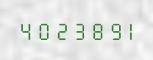eight: (85, 20, 101, 40)
four: (17, 20, 33, 40)
nine: (102, 20, 118, 40)
one: (119, 20, 135, 40)
three: (68, 20, 84, 40)
two: (51, 20, 67, 40)
zero: (34, 20, 50, 40)
